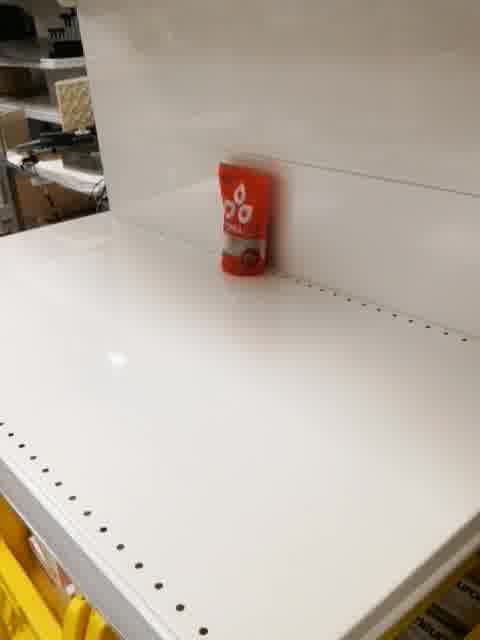whitechia: (215, 158, 281, 281)
